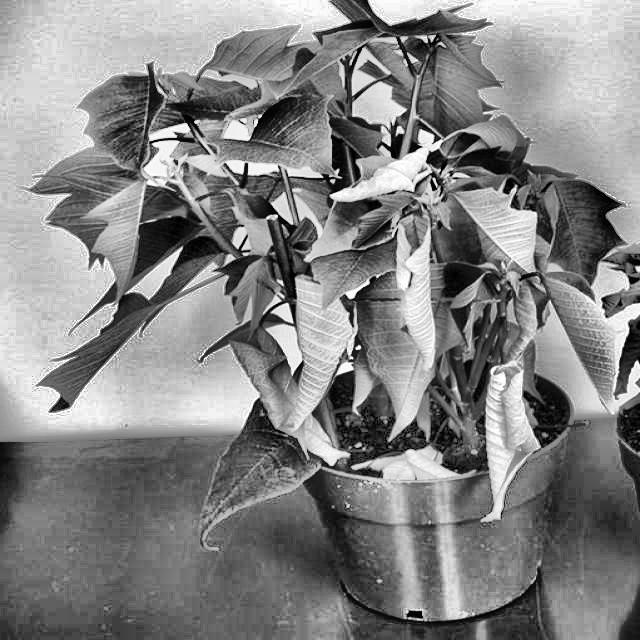plants: (33, 8, 616, 624), (213, 309, 359, 462), (454, 344, 562, 524), (90, 50, 186, 183)
